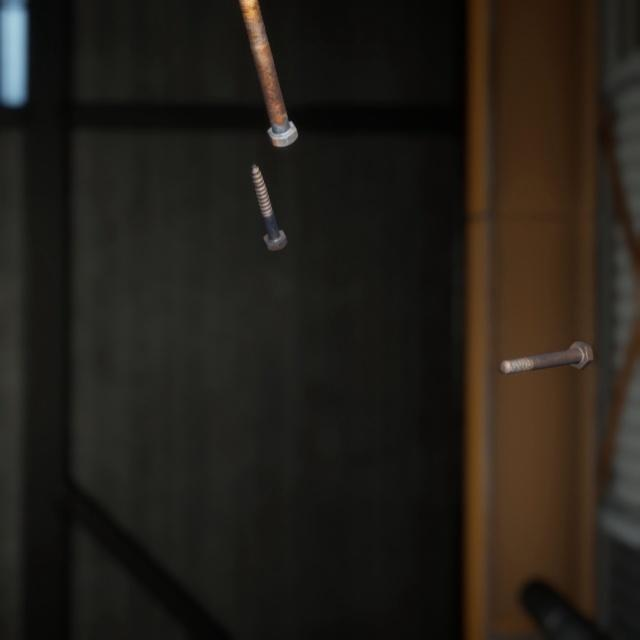bolt: (237, 0, 302, 140), (246, 143, 292, 240), (494, 318, 597, 359)
